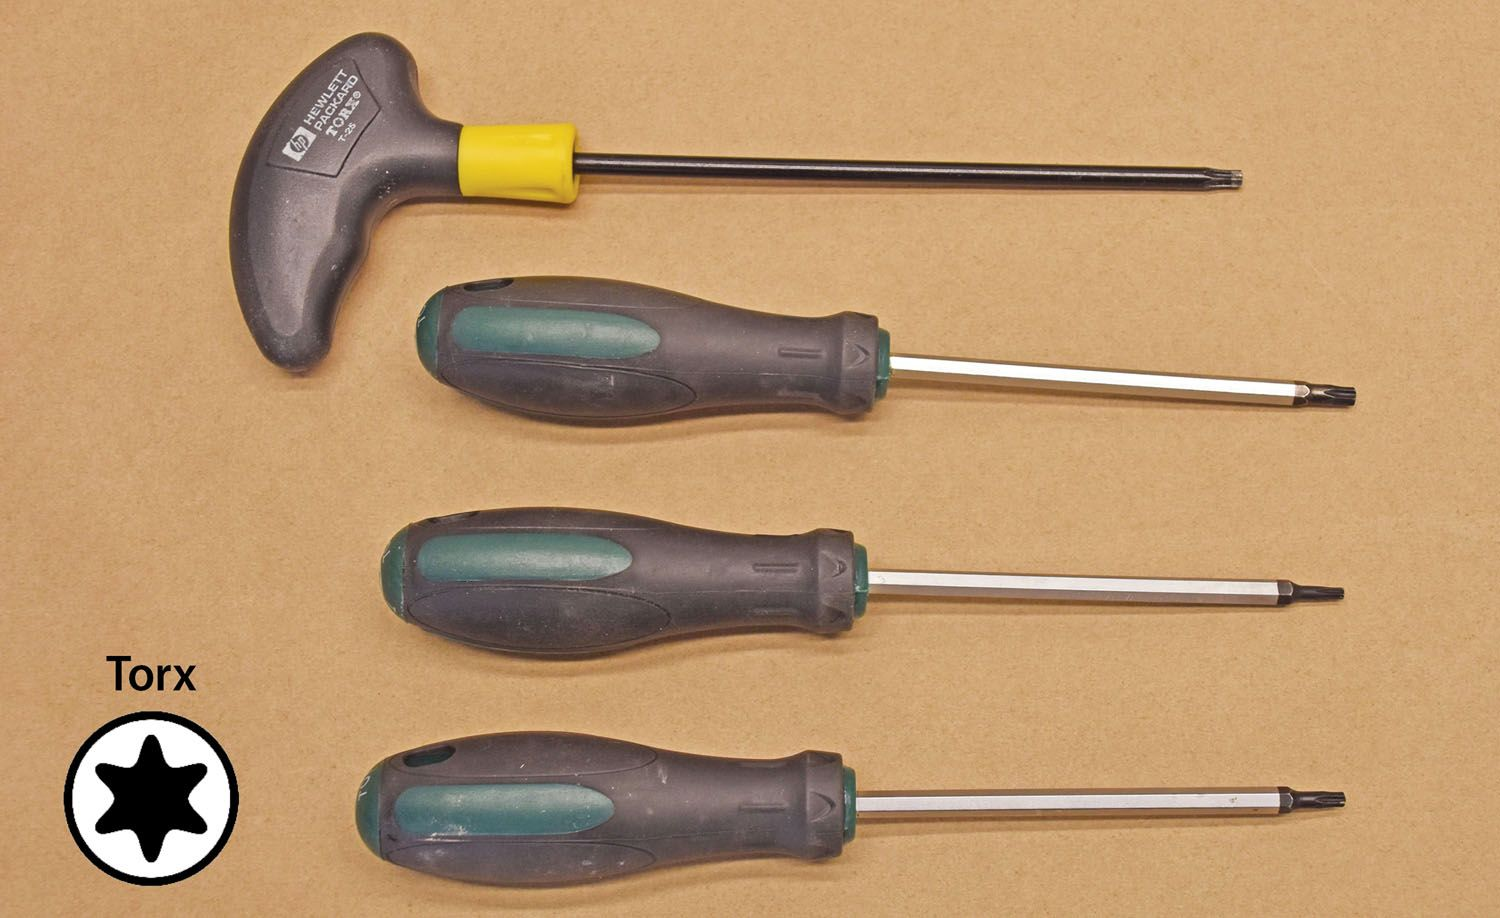screwdriver: (411, 276, 1361, 458), (361, 733, 1345, 892), (379, 508, 1346, 665), (456, 105, 1250, 207)
